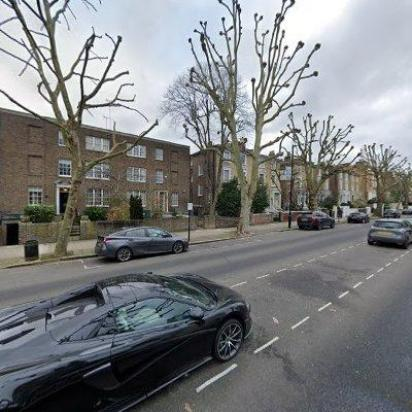stationary-car-onstreet: (0, 261, 252, 411), (96, 225, 190, 260), (366, 217, 410, 248), (296, 211, 336, 229), (347, 212, 369, 224), (382, 206, 402, 218)
stationary-light-truck-onstreet: (402, 204, 412, 214)
